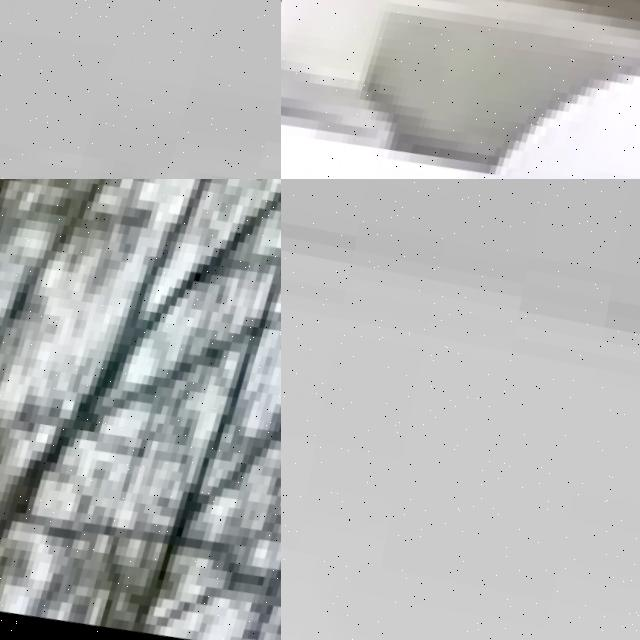0: (0, 0, 281, 179)
drone: (0, 179, 281, 640), (281, 0, 640, 179)
